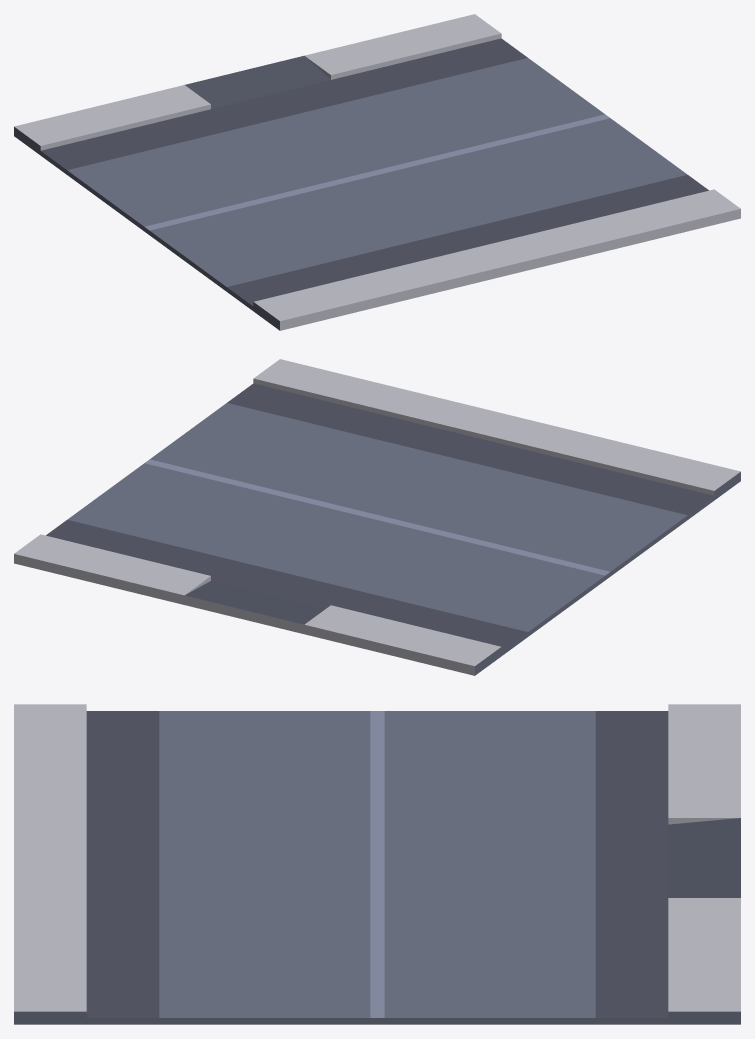
Rendered from Road Driveway Single.glb.
3 renders of one model, top to bottom at view 1: azimuth 30°, elevation 25°; view 2: azimuth 150°, elevation 25°; view 3: azimuth 270°, elevation 25°, orthographic. The views are drawn at different scales.
Visible parts, largest first — view 1: road_drivewaySingle; view 2: road_drivewaySingle; view 3: road_drivewaySingle.
Boxes of the visible parts, x1,y1,x2,y2 form: road_drivewaySingle: (14, 14, 740, 330); road_drivewaySingle: (14, 359, 740, 675); road_drivewaySingle: (14, 704, 740, 1024).
Bounding box in the file's own units: 1 × 0.02 × 1.
